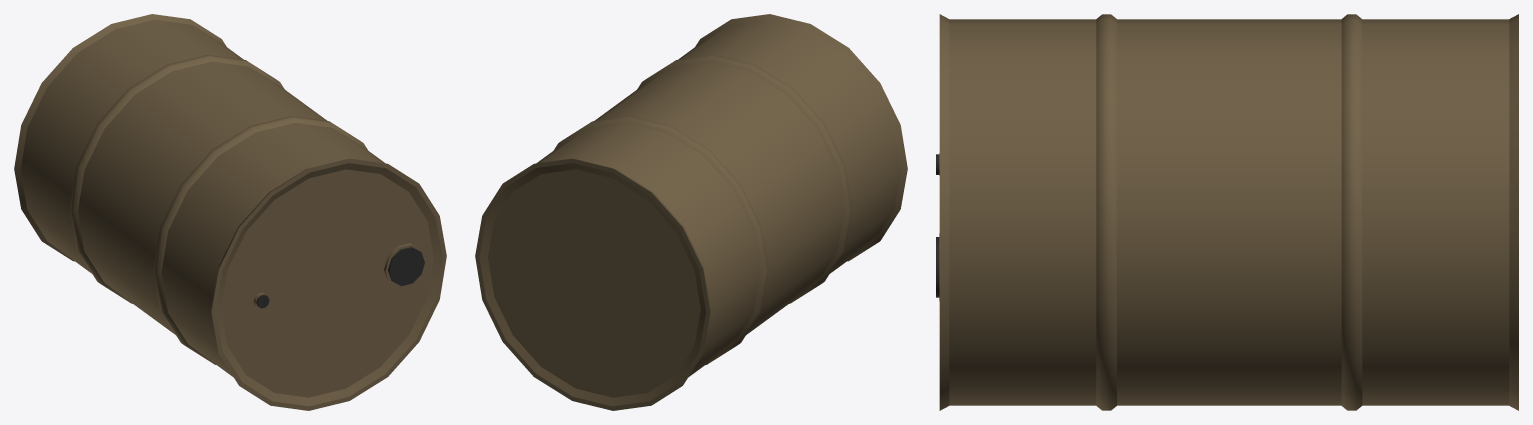
Rendered from drum.obj.
3 renders of one model, left to right at view 1: azimuth 30°, elevation 25°; view 2: azimuth 150°, elevation 25°; view 3: azimuth 270°, elevation 25°, orthographic. The views are drawn at different scales.
Parts seen in each view (by area): view 1: 13_-_Default, black; view 2: 13_-_Default; view 3: 13_-_Default.
Part boxes in pixels (bbox=[...]): 13_-_Default: bbox=[14, 14, 446, 410]; black: bbox=[256, 247, 424, 308]; 13_-_Default: bbox=[475, 14, 907, 410]; 13_-_Default: bbox=[939, 14, 1518, 410].
Size of the model in its own units: 0.5853 by 0.5764 by 0.8562.
